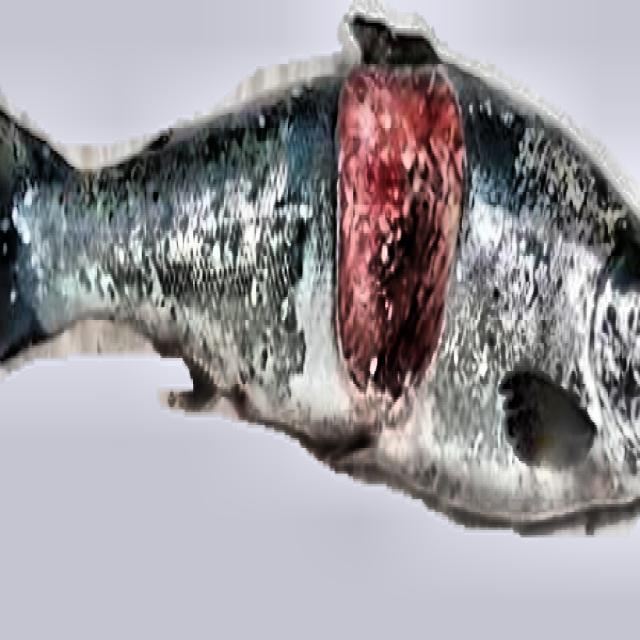mild_red: (0, 56, 639, 525)
wound: (335, 66, 465, 405)
